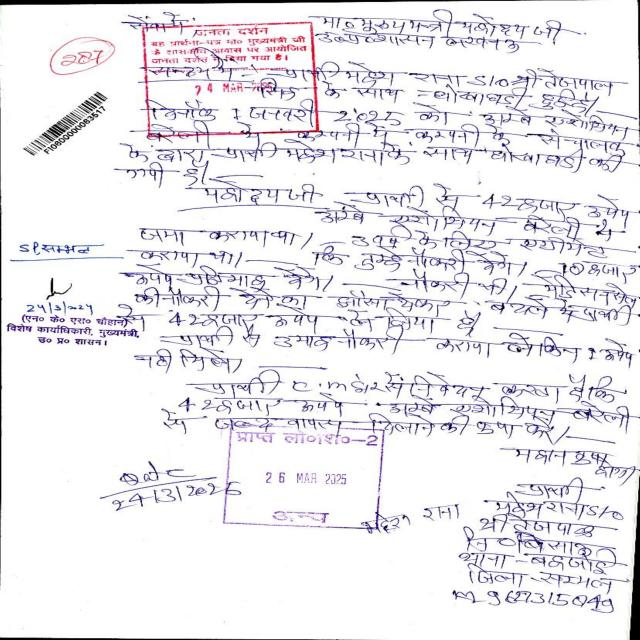antritgovtstamp: (219, 414, 395, 533)
barcode: (15, 89, 117, 158)
jantadarsan: (129, 13, 333, 143)
